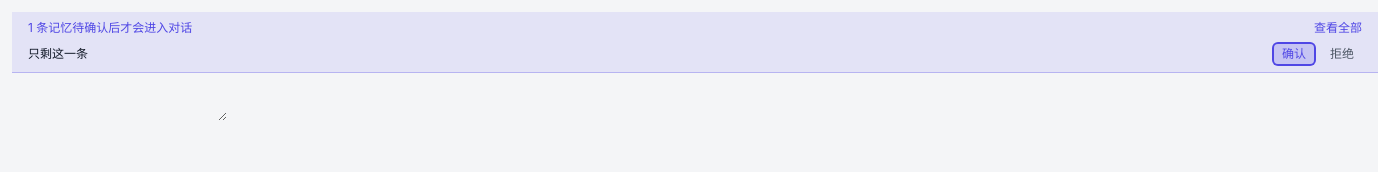
Test case: ProposedMemoryBanner › focuses the composer when the banner closes after the last confirm
The width and height of the screenshot is (1378, 172).
Click the button "确认" at (1294, 54), box [1274,44,1314,64]
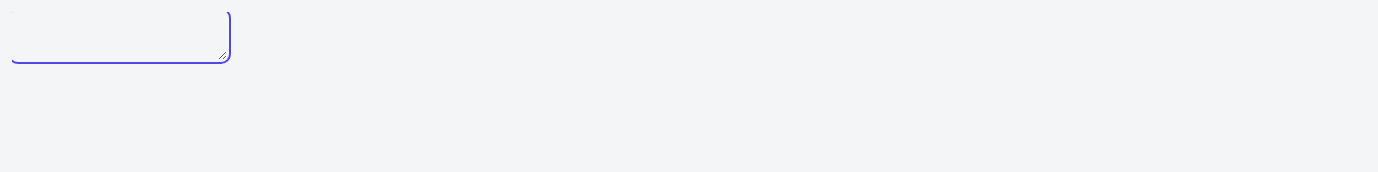
Expected: the text "只剩这一条" is gone
Expected: the link "查看全部" is gone
